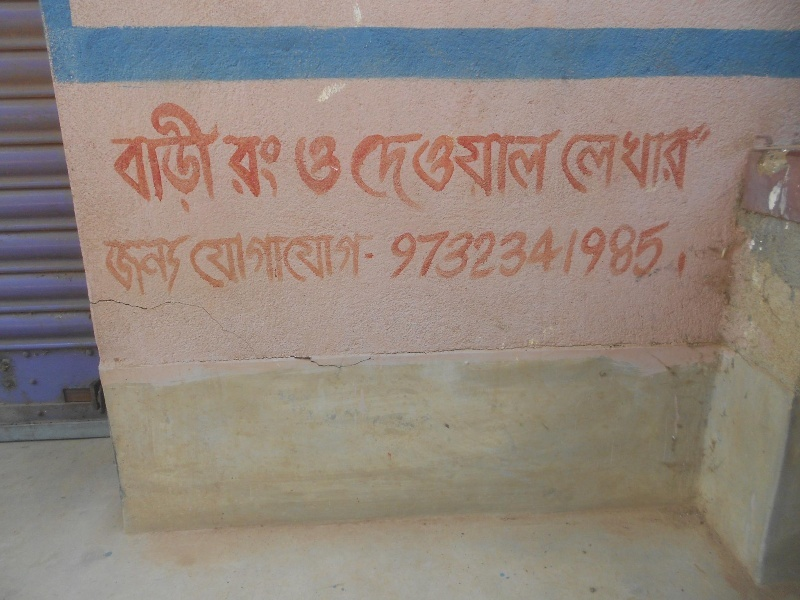text: (113, 102, 128, 217), (129, 102, 144, 217), (145, 102, 160, 217), (161, 102, 176, 217), (177, 102, 192, 217), (193, 102, 208, 217), (209, 102, 224, 217), (353, 129, 368, 208), (369, 129, 384, 208), (385, 129, 400, 208), (401, 129, 416, 208), (417, 129, 432, 208), (433, 129, 448, 208), (449, 129, 464, 208), (465, 129, 480, 208), (481, 129, 496, 208), (497, 129, 512, 208), (513, 129, 528, 208), (529, 129, 544, 208), (545, 129, 560, 208), (577, 122, 592, 194), (593, 122, 608, 194), (609, 122, 624, 194), (625, 122, 640, 194), (641, 122, 656, 194), (657, 122, 672, 194), (673, 122, 688, 194), (689, 122, 704, 194), (562, 122, 576, 194), (113, 234, 128, 301), (129, 234, 144, 301), (145, 234, 160, 301), (161, 234, 176, 301), (401, 216, 416, 281), (417, 216, 432, 281), (433, 216, 448, 281), (449, 216, 464, 281), (465, 216, 480, 281), (481, 216, 496, 281), (497, 216, 512, 281), (513, 216, 528, 281), (529, 216, 544, 281), (545, 216, 560, 281), (561, 216, 576, 281), (577, 216, 592, 281), (593, 216, 608, 281), (609, 216, 624, 281), (625, 216, 640, 281), (641, 216, 656, 281), (657, 216, 672, 281), (673, 216, 688, 281), (225, 133, 240, 197), (241, 133, 256, 197), (257, 133, 272, 197), (273, 133, 288, 197), (305, 134, 320, 196), (321, 134, 336, 196), (104, 102, 112, 217), (193, 231, 208, 292), (209, 231, 224, 292), (225, 231, 240, 292), (241, 231, 256, 292), (257, 231, 272, 292), (273, 231, 288, 292), (289, 231, 304, 292), (305, 231, 320, 292), (321, 231, 336, 292), (337, 231, 352, 292), (353, 231, 368, 292), (177, 234, 190, 301), (369, 231, 381, 292), (103, 234, 112, 301), (391, 216, 400, 281), (295, 134, 304, 196), (705, 122, 711, 194), (337, 134, 343, 196), (188, 231, 192, 292), (689, 216, 692, 281), (289, 133, 292, 197), (225, 102, 226, 217), (351, 129, 352, 208), (561, 129, 562, 208)
